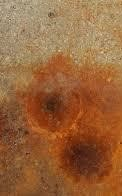Corrosion: (1, 51, 122, 196)
